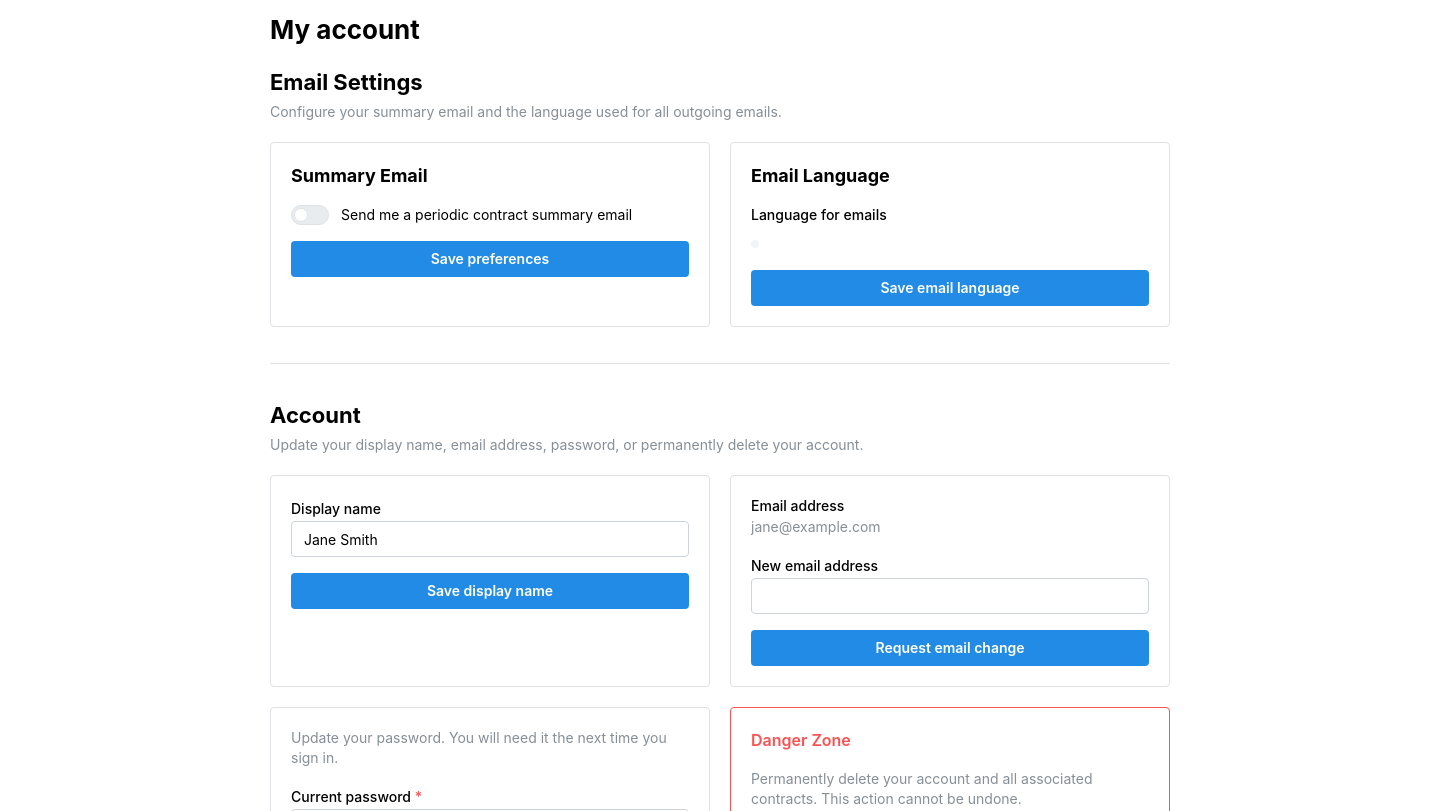
AccountSettings – Display Name section › shows an error toast when updateDisplayName fails
Step 1. Replace the text in the field labelled "Display name" with "Bad Name" → [490, 539], box [291,521,689,557]
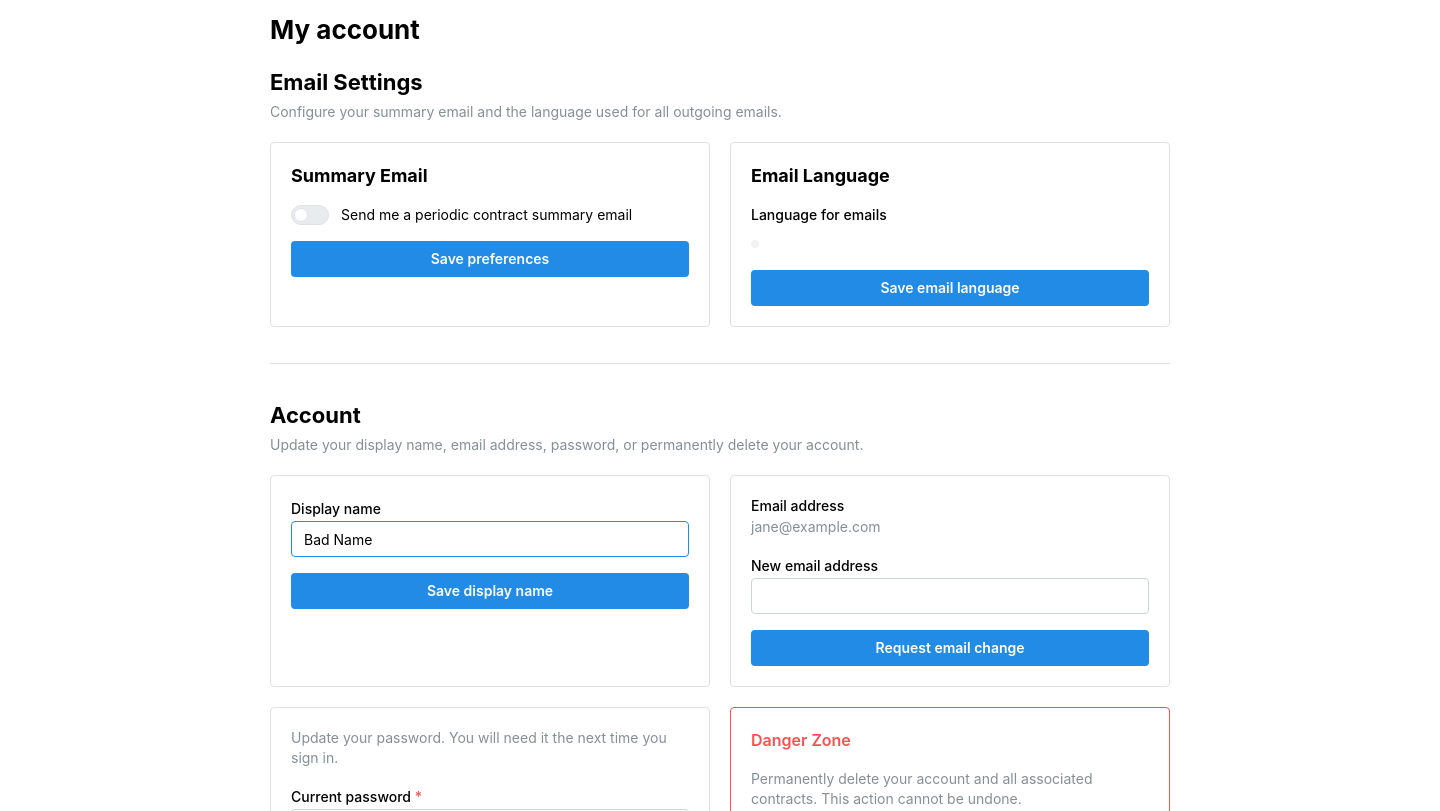
Step 2. Click the button "Save display name" → [490, 591], box [291,573,689,609]
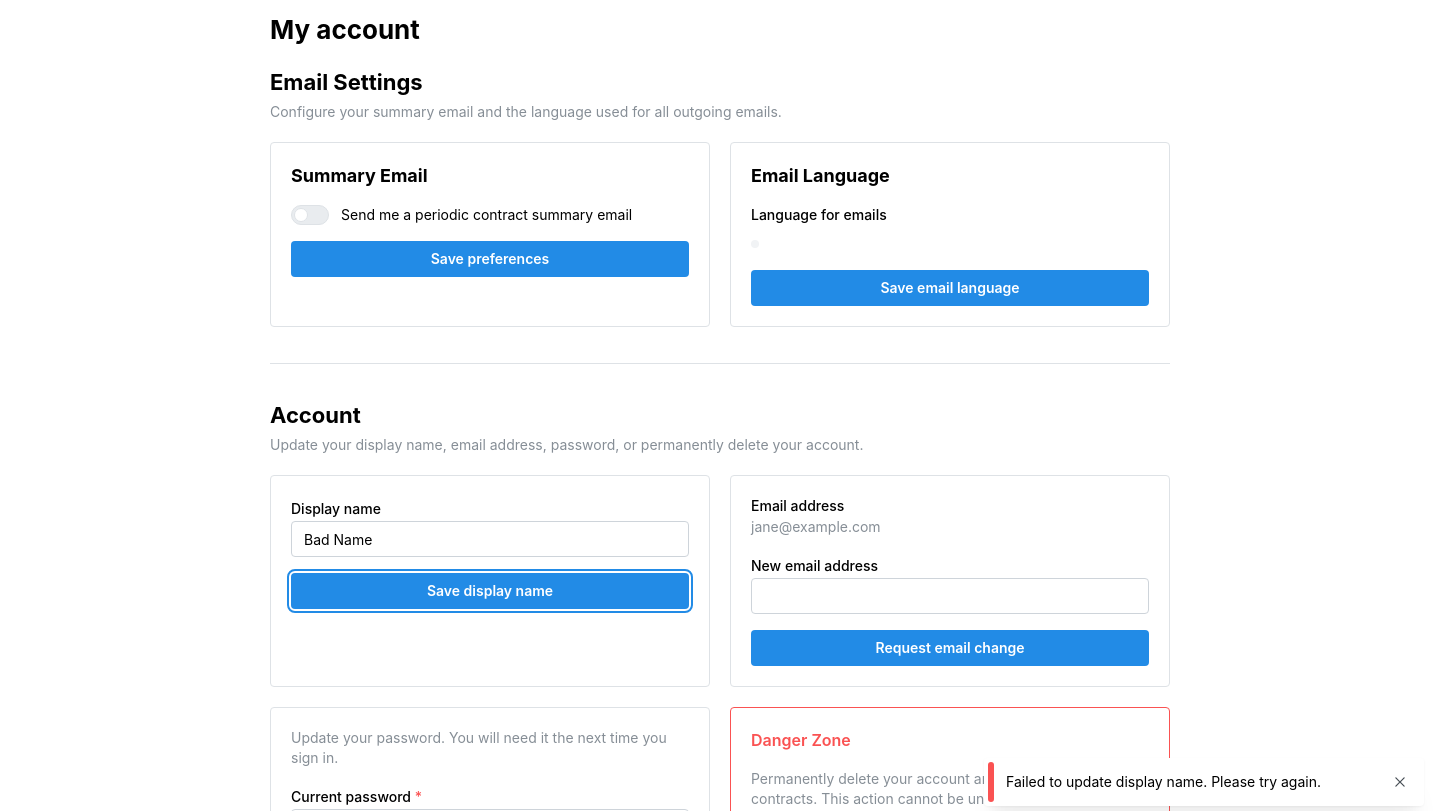
Now the text "Failed to update display name. Please try again." is shown, box [1006,772,1376,792]
